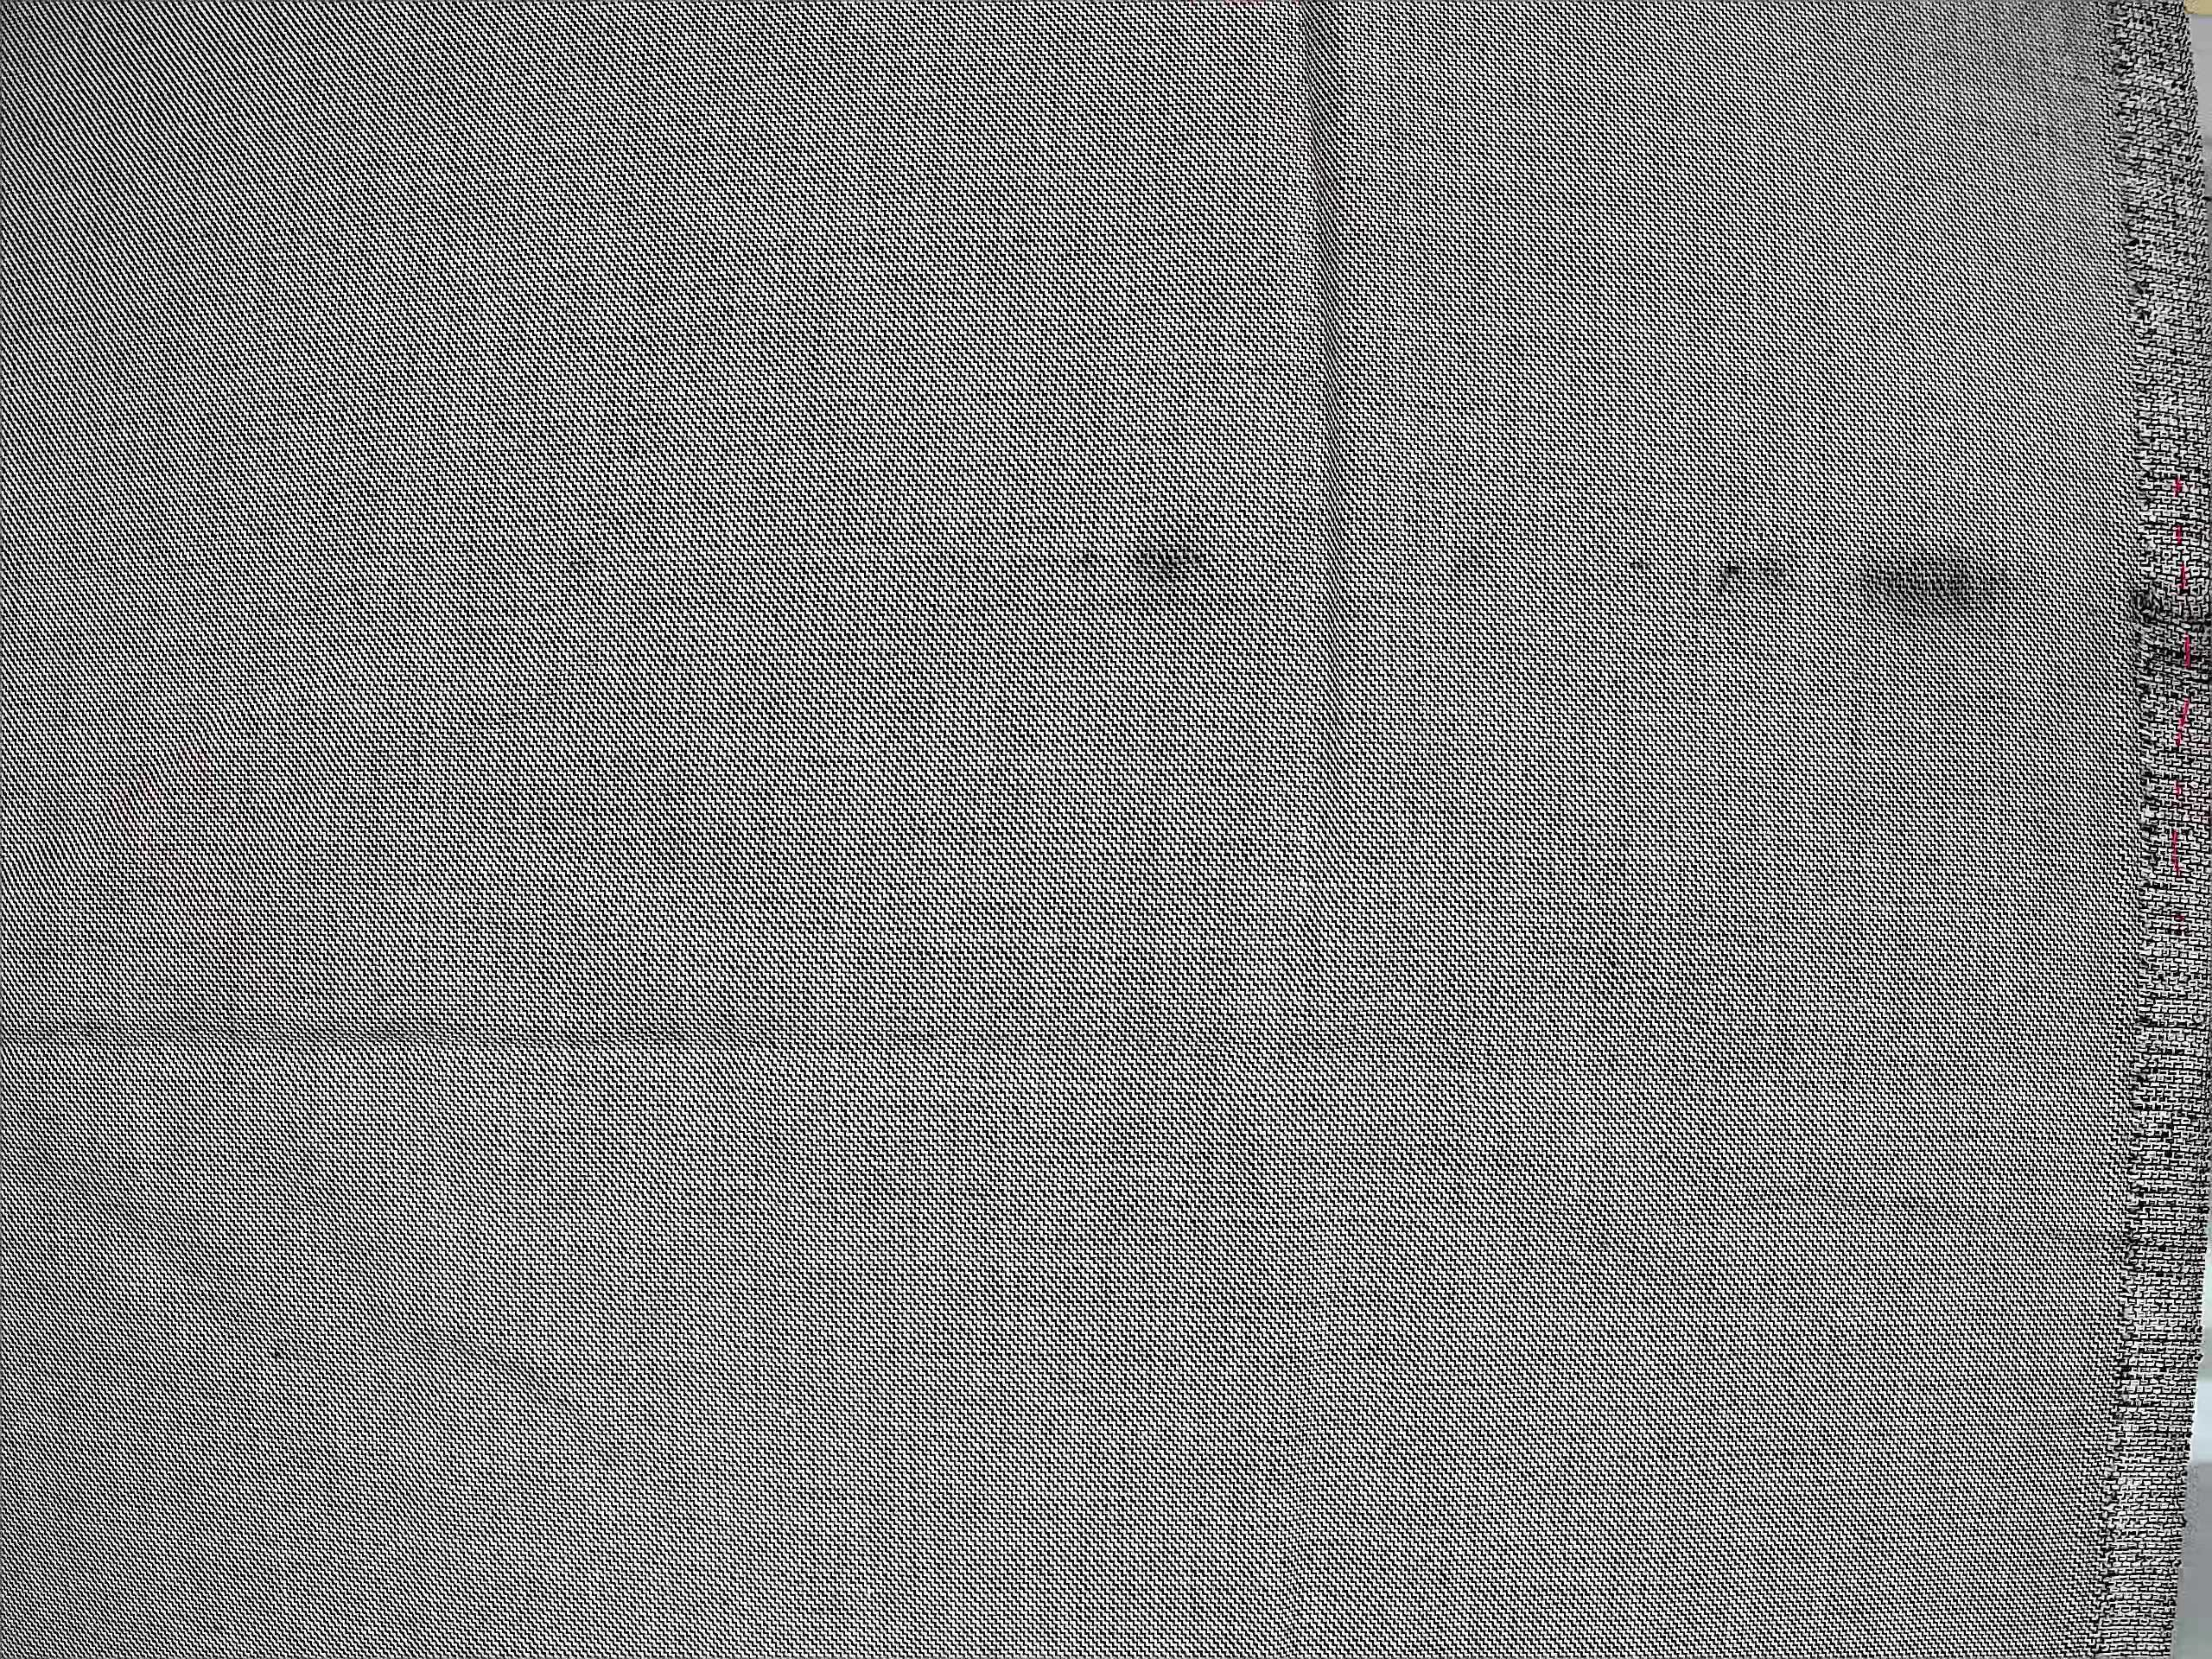stains: (1682, 513, 2082, 682), (1077, 483, 1279, 630)
